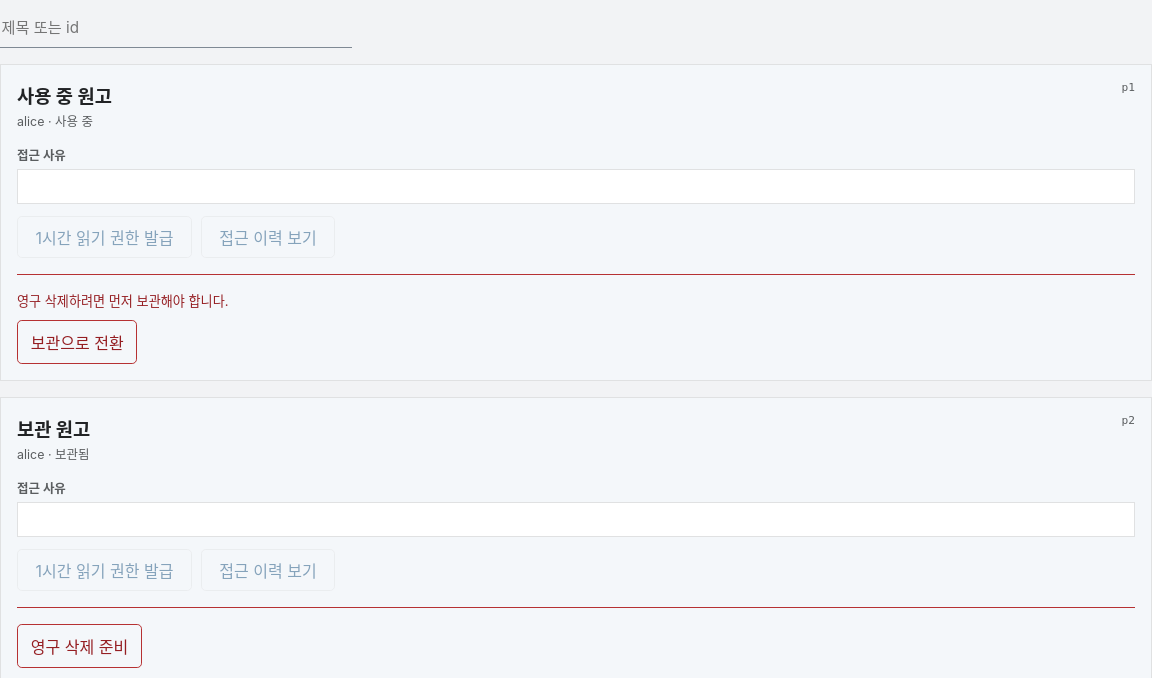
AdminUserDetail › requires archive, reason, and the exact project name before purging
The width and height of the screenshot is (1152, 678).
(page scrolled)
Expected: the text "사용 중 원고" is shown, [17,84,112,108]
Expected: the text "보관 원고" is shown, [17,418,90,441]
Click the button "보관으로 전환" at (77, 342), box [17,320,137,364]
(page scrolled)
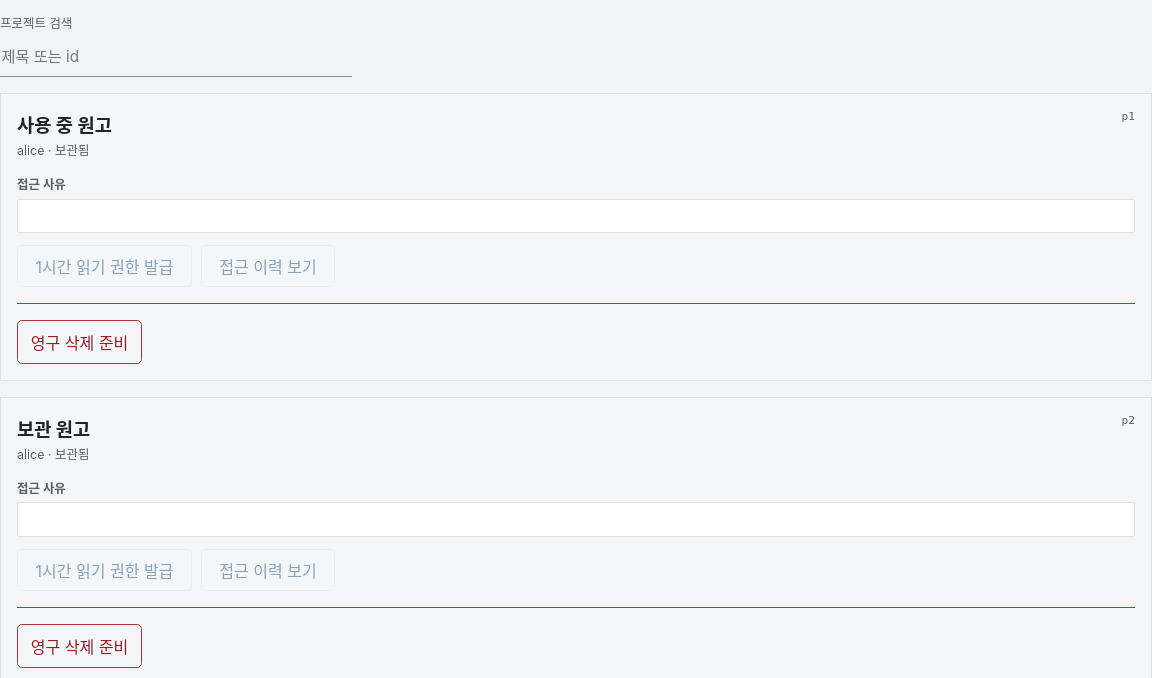
Expected: the 1st button "영구 삭제 준비" is shown, [17,320,142,364]
Click the button "영구 삭제 준비" below "보관 원고" at (79, 646), box [17,624,142,668]
(page scrolled)
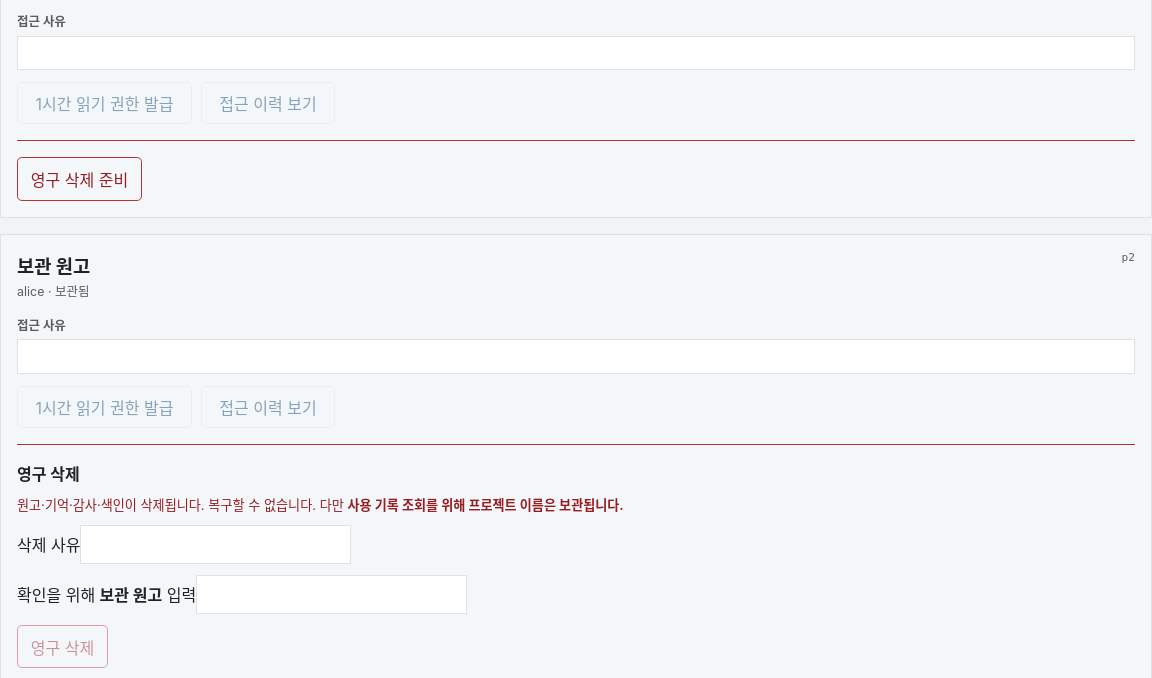
Expected: the text "사용 기록 조회를 위해 프로젝트 이름은 보관됩니다." is shown, [348,497,624,513]
Expected: the button "영구 삭제" is disabled, [17,625,108,668]
Type "고객 삭제 요청" into the field labelled "삭제 사유" at (216, 545), box [80,525,351,564]
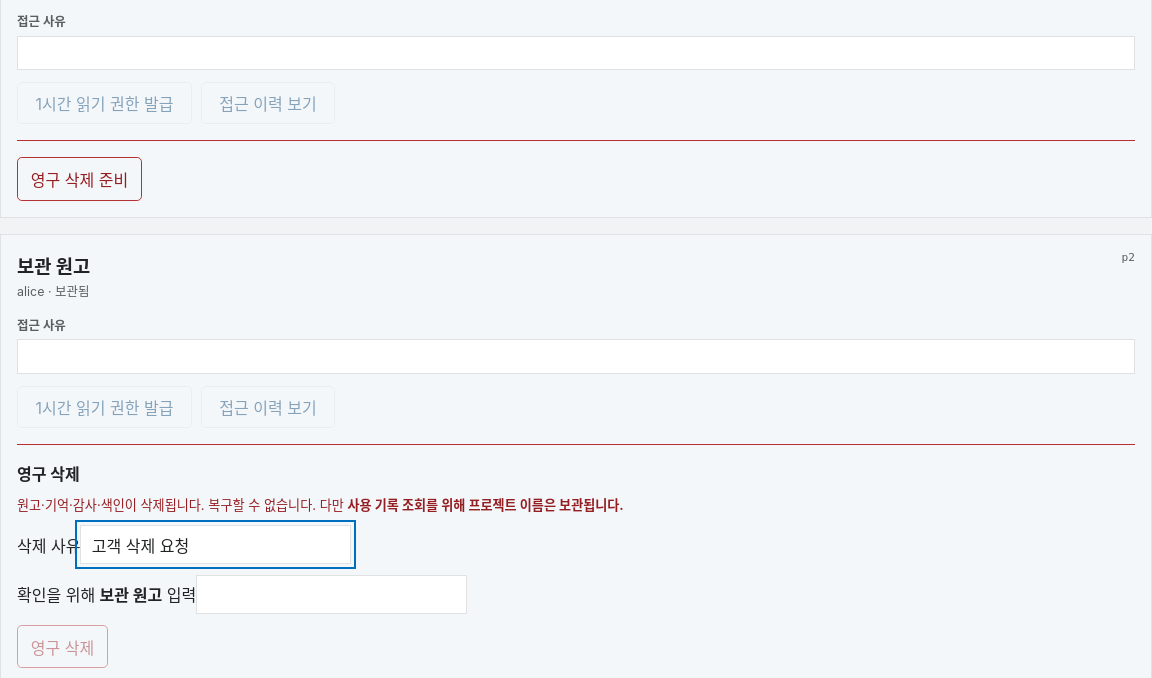
Type "다른 이름" into the field labelled "확인을 위해 보관 원고 입력" at (332, 595), box [196,575,467,614]
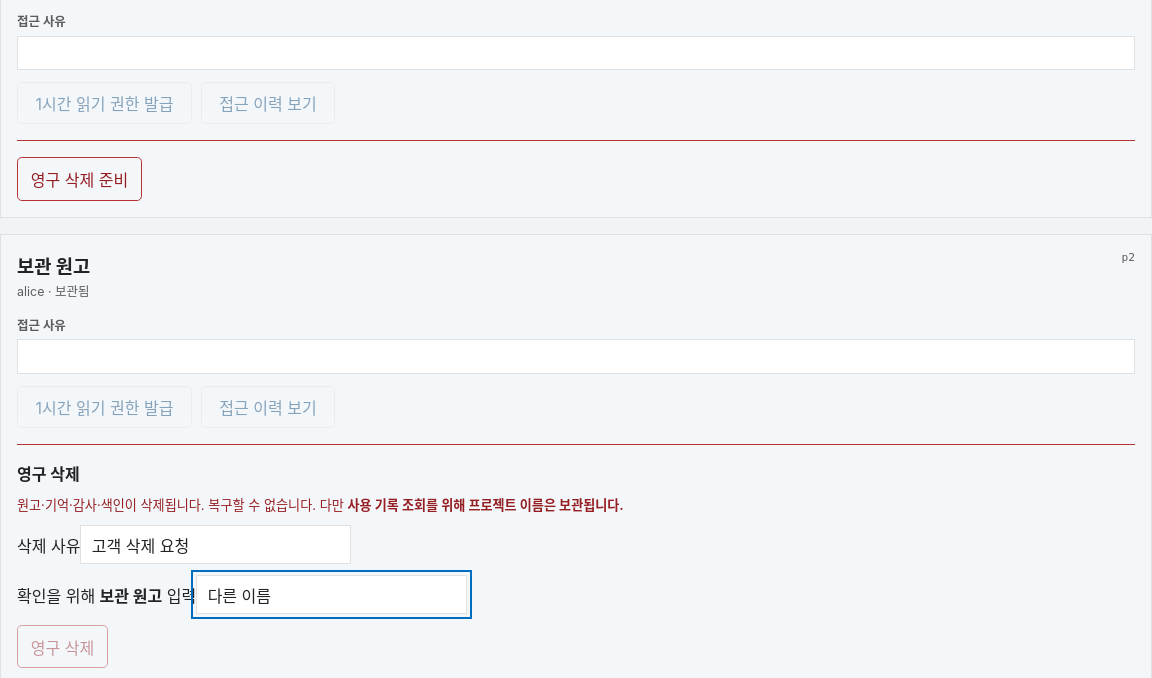
Expected: the button "영구 삭제" is disabled, [17,625,108,668]
Replace the text in the field labelled "확인을 위해 보관 원고 입력" with "보관 원고" at (332, 595), box [196,575,467,614]
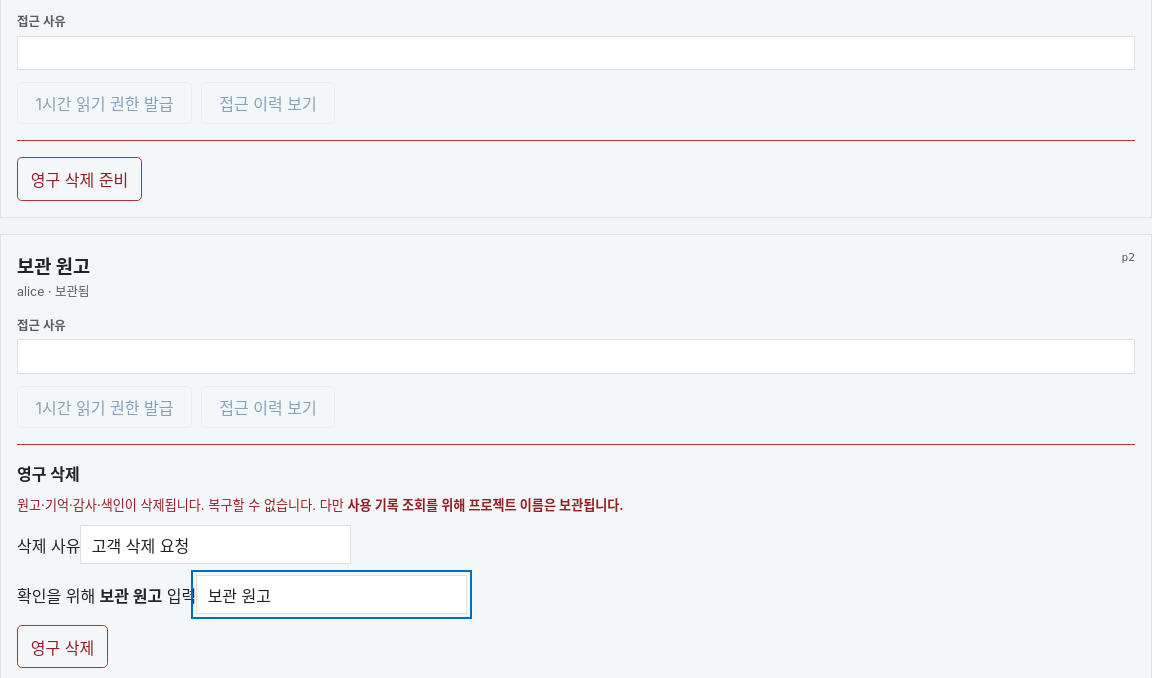
Expected: the button "영구 삭제" is enabled
Click the button "영구 삭제" at (62, 647), box [17,625,108,668]
(page scrolled)
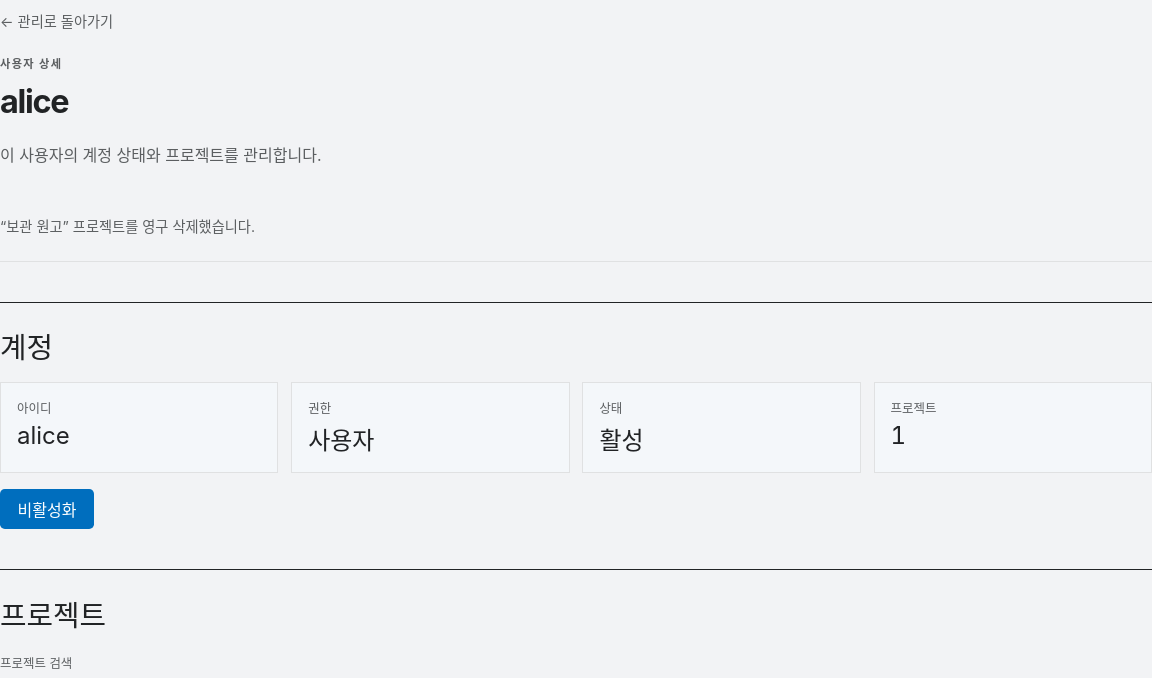
Expected: the message shows "영구 삭제했습니다", [0,218,255,235]
